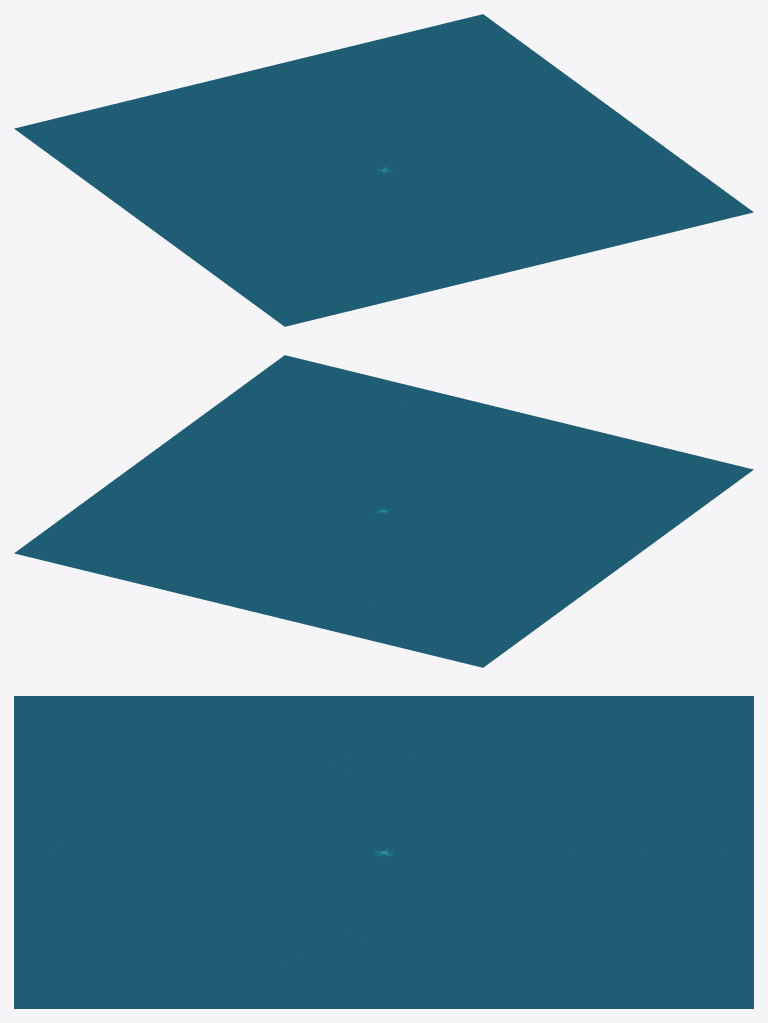
The picture shows the model from 3 angles, top to bottom: view 1: azimuth 30°, elevation 25°; view 2: azimuth 150°, elevation 25°; view 3: azimuth 270°, elevation 25°; orthographic projection. The views are drawn at different scales.
Visible parts, largest first — view 1: Ocean surface; view 2: Ocean surface; view 3: Ocean surface.
Part boxes in pixels (x1,y1,x2,y2): Ocean surface: [14, 14, 753, 326]; Ocean surface: [14, 355, 753, 667]; Ocean surface: [14, 696, 753, 1008].
Size of the model in its own units: 60000 by 0.0989 by 60000.
Materials: 2 (2 with a texture image).
